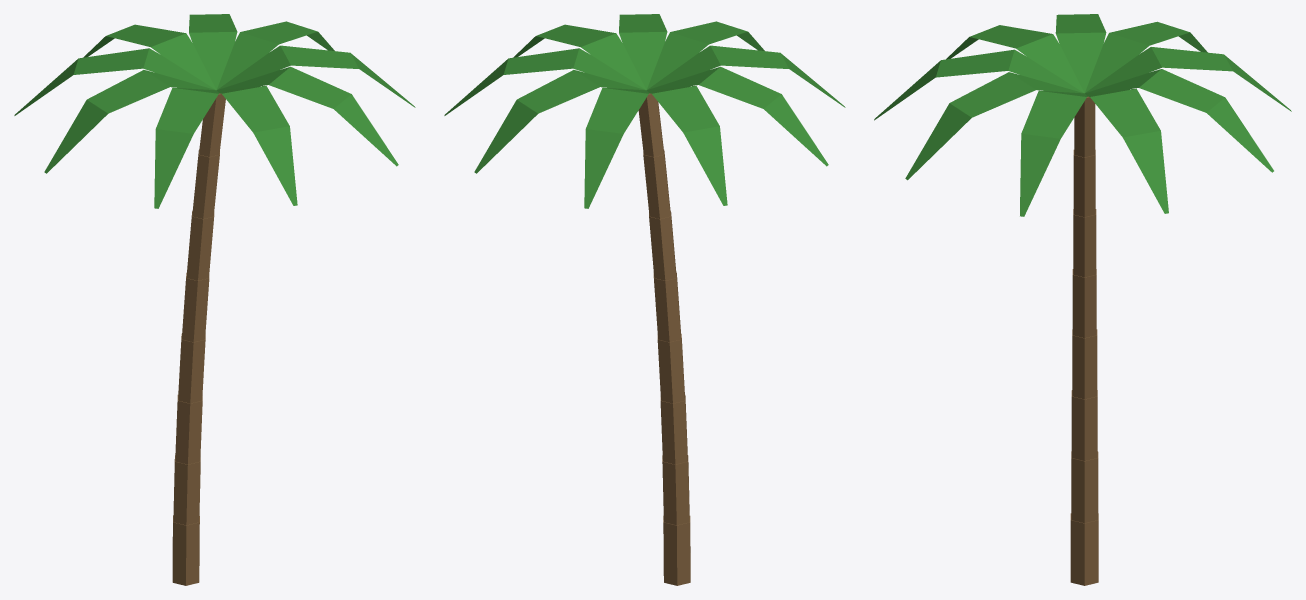
Rendered from palmera.glb.
3 views of the same model, side by side, from view 1: azimuth 30°, elevation 25°; view 2: azimuth 150°, elevation 25°; view 3: azimuth 270°, elevation 25° (orthographic). The views are drawn at different scales.
Bounding box in the file's own units: 9.01 × 12.7 × 9.07.
